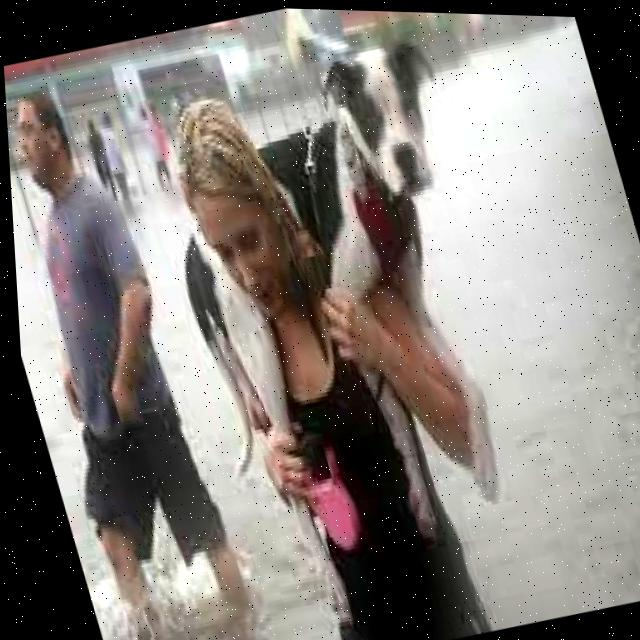civilian: (143, 61, 512, 640), (4, 67, 257, 624), (130, 100, 184, 202), (92, 111, 144, 209), (77, 120, 121, 197)
dog: (116, 23, 513, 399)
